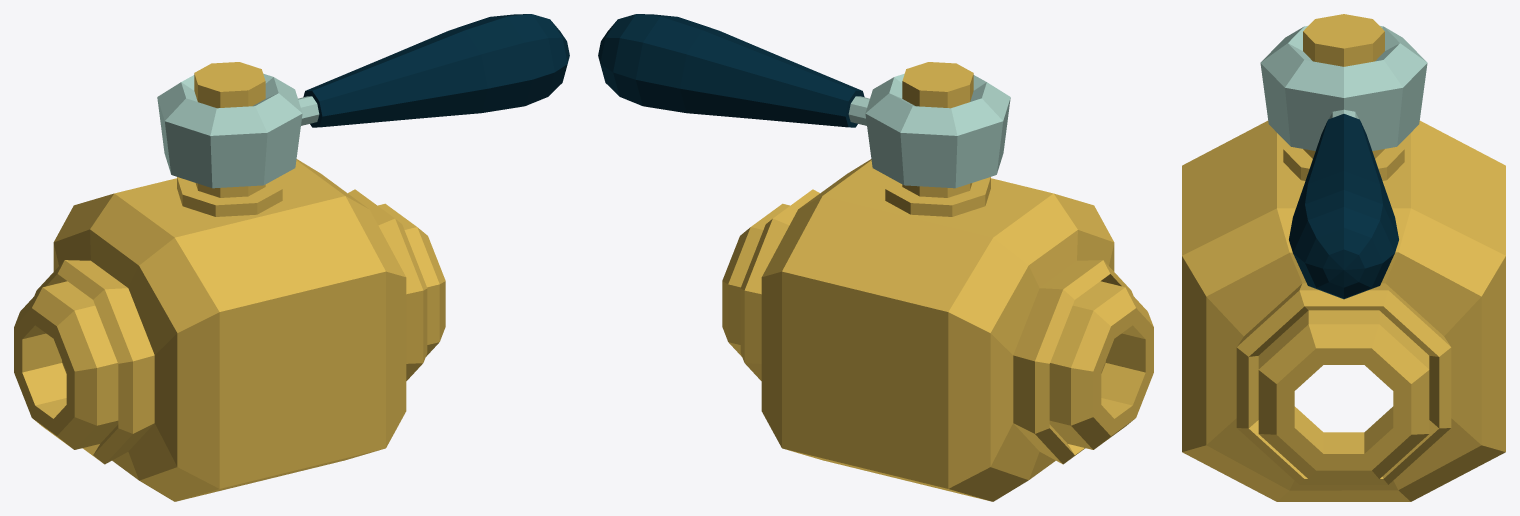
File: valve.glb
The picture shows the model from 3 angles, left to right: view 1: azimuth 30°, elevation 25°; view 2: azimuth 150°, elevation 25°; view 3: azimuth 270°, elevation 25°; orthographic projection. The views are drawn at different scales.
Parts seen in each view (by area): view 1: valve; view 2: valve; view 3: valve.
Boxes of the visible parts, box(x1,y1,x2,y2) form: valve: box(14, 14, 569, 501); valve: box(598, 14, 1153, 501); valve: box(1182, 14, 1505, 501).
Size of the model in its own units: 0.6251 by 0.4399 by 0.3043.
